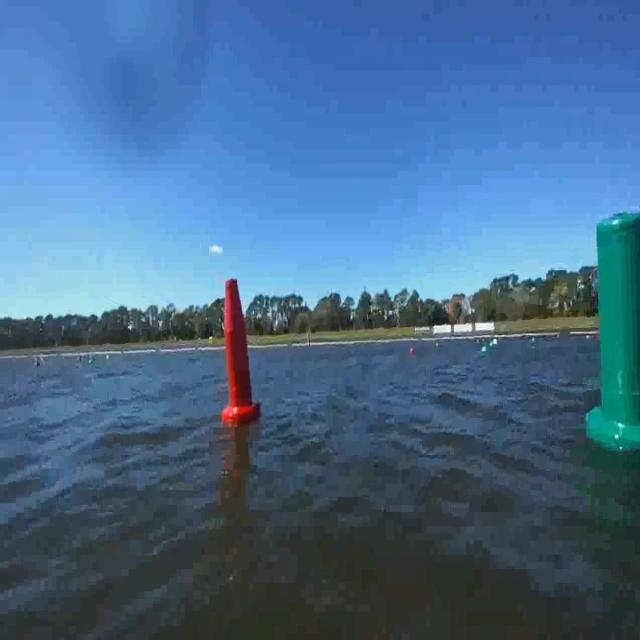green-column-buoy: (583, 215, 638, 454)
red-column-buoy: (220, 273, 258, 425)
